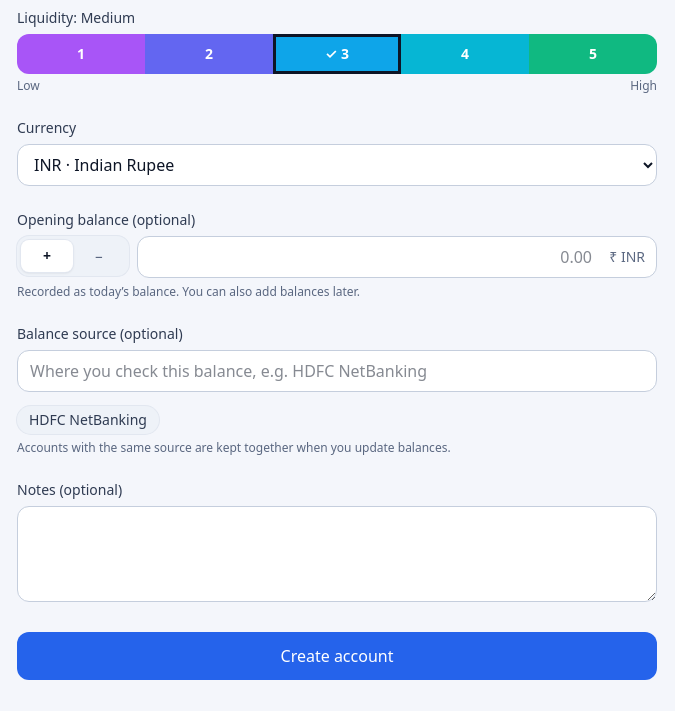
Scenario: NewAccountPage › asks for a name and a tag before saving
The image size is (675, 711).
(page scrolled)
What coordinates should you click on to do the following:
click the button "Create account"
I would click on:
 (337, 656)
Its box is [17, 632, 657, 680].
(page scrolled)
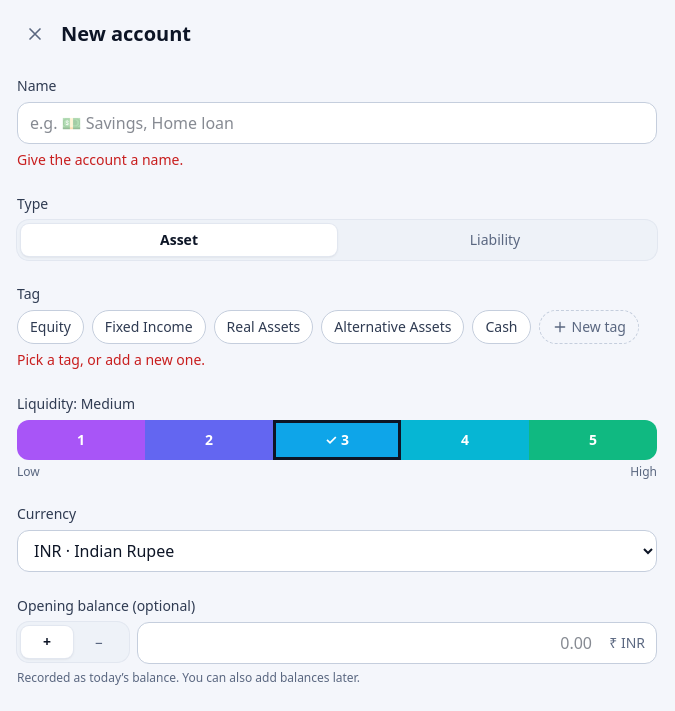
Expected: the text "Give the account a name." is shown, [17, 150, 183, 169]
Expected: the text "Pick a tag, or add a new one." is shown, [17, 350, 205, 369]
